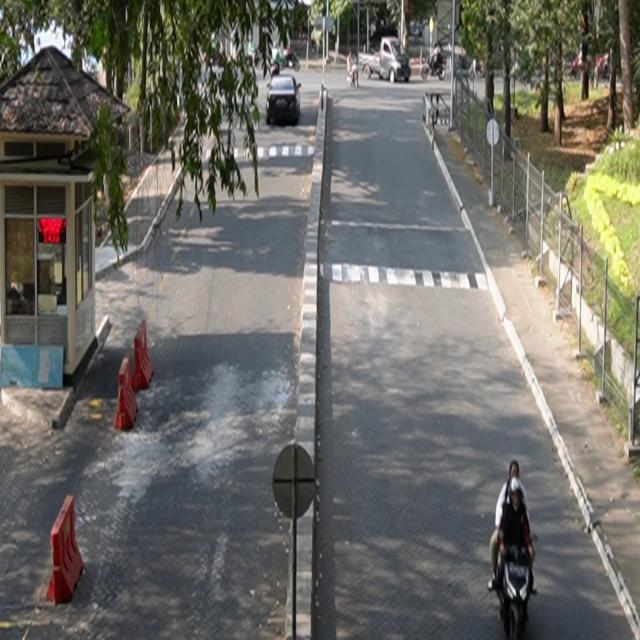car: (266, 76, 303, 127)
